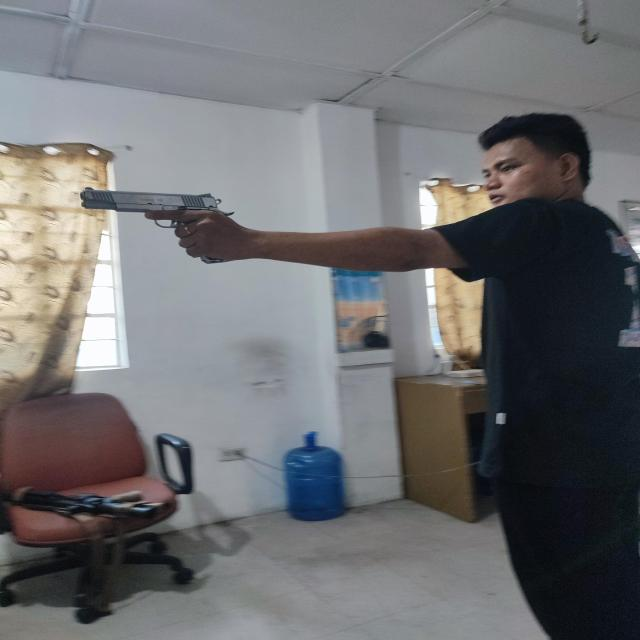pistol: (80, 187, 234, 228)
